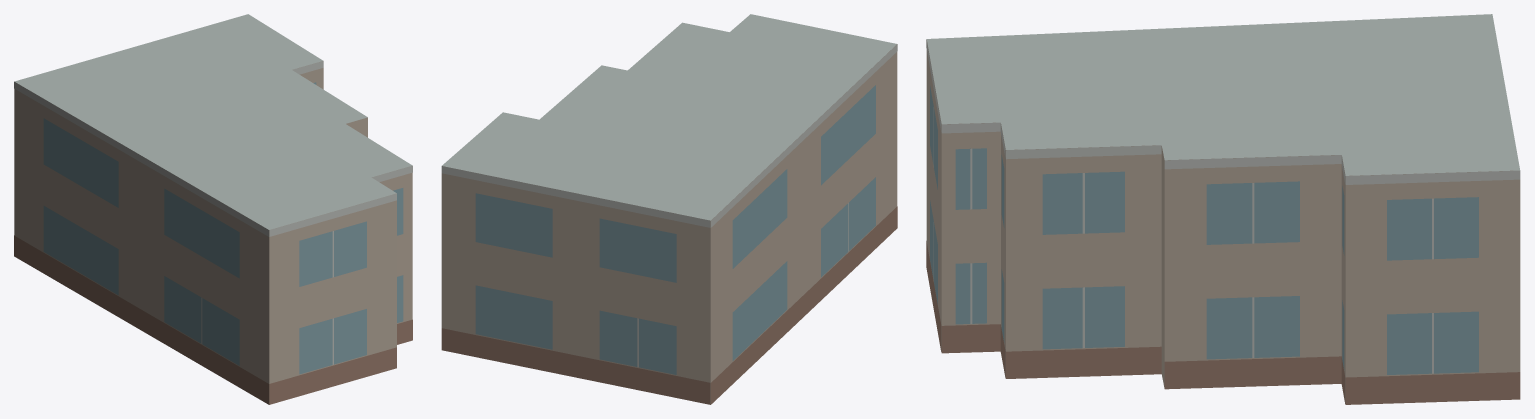
The model's file is survey-upis-32944471.glb.
The picture shows the model from 3 angles, left to right: view 1: azimuth 30°, elevation 25°; view 2: azimuth 150°, elevation 25°; view 3: azimuth 270°, elevation 25°; orthographic projection. The views are drawn at different scales.
Parts seen in each view (by area): view 1: survey-upis-32944471.tmp; view 2: survey-upis-32944471.tmp; view 3: survey-upis-32944471.tmp.
Part boxes in pixels (box(x1,y1,x2,y2)): survey-upis-32944471.tmp: box(14, 14, 412, 404); survey-upis-32944471.tmp: box(441, 14, 897, 404); survey-upis-32944471.tmp: box(926, 14, 1520, 404).
Bounding box in the file's own units: 9.26 × 6.1 × 14.34.
